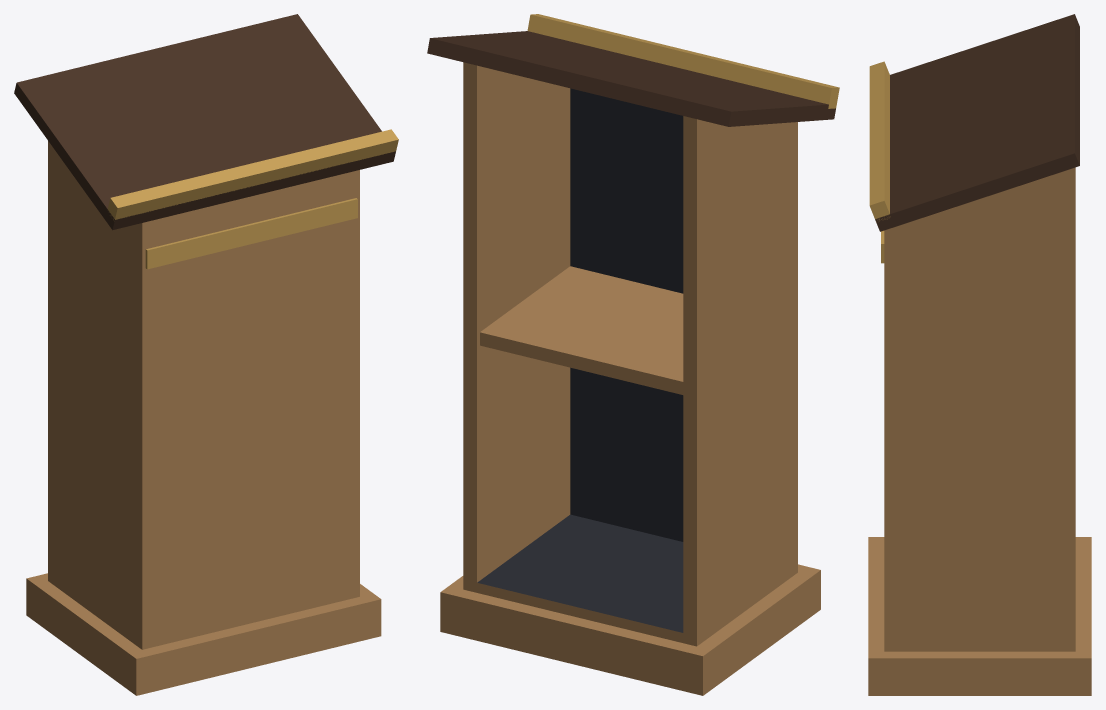
The model's file is FN_Lectern.obj.
3 renders of one model, left to right at view 1: azimuth 30°, elevation 25°; view 2: azimuth 150°, elevation 25°; view 3: azimuth 270°, elevation 25°, orthographic. The views are drawn at different scales.
Visible parts, largest first — view 1: FN_Lectern; view 2: FN_Lectern; view 3: FN_Lectern.
Boxes of the visible parts, x1,y1,x2,y2 form: FN_Lectern: [14, 14, 398, 695]; FN_Lectern: [427, 14, 839, 695]; FN_Lectern: [868, 14, 1091, 695].
Size of the model in its own units: 0.62 by 1.14 by 0.42.
1 material, 1 textured.
